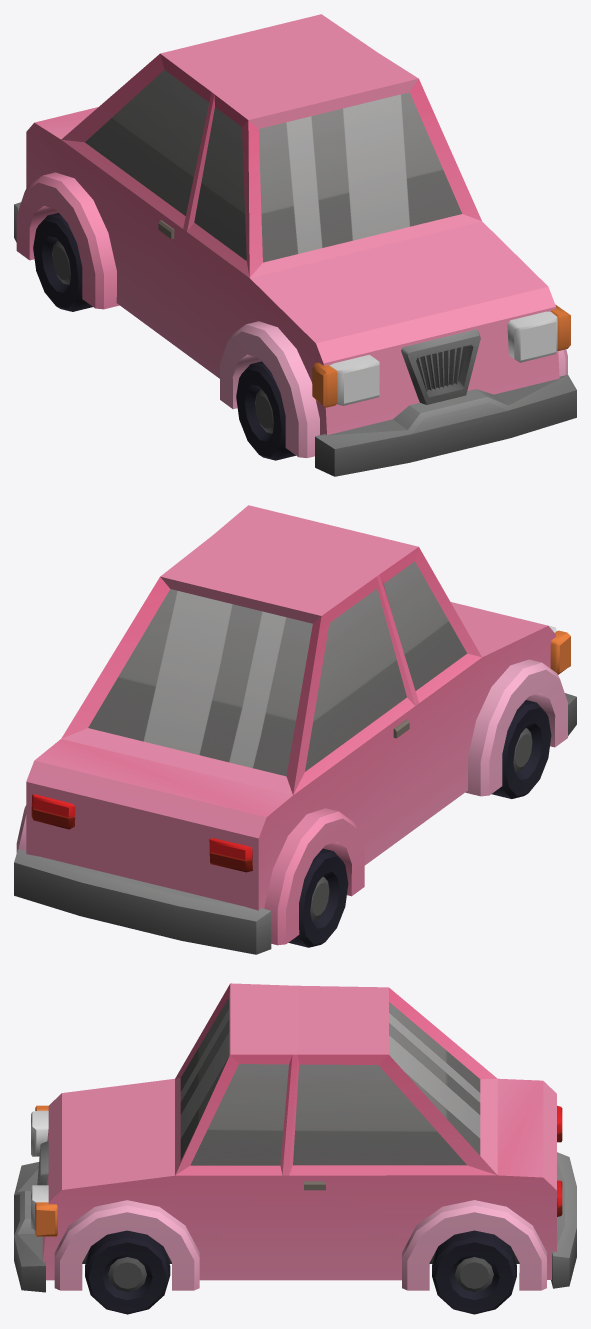
Rendered from Car_4_7.glb.
The picture shows the model from 3 angles, top to bottom: view 1: azimuth 30°, elevation 25°; view 2: azimuth 150°, elevation 25°; view 3: azimuth 270°, elevation 25°; orthographic projection. The views are drawn at different scales.
Parts seen in each view (by area): view 1: Car_4_7, BWhel_FR, BWhel_BR; view 2: Car_4_7, BWhel_BR, BWhel_FR; view 3: Car_4_7, BWhel_FL, BWhel_BL.
Part boxes in pixels (x1,y1,x2,y2): Car_4_7: (14, 14, 576, 476); BWhel_FR: (236, 361, 295, 460); BWhel_BR: (33, 212, 92, 311); Car_4_7: (14, 505, 576, 954); BWhel_BR: (288, 848, 348, 947); BWhel_FR: (491, 700, 551, 798); Car_4_7: (14, 983, 576, 1292); BWhel_FL: (85, 1230, 170, 1314); BWhel_BL: (432, 1230, 516, 1314).
Bounding box in the file's own units: 1.09 × 1.09 × 2.3.
6 materials, 6 textured.
